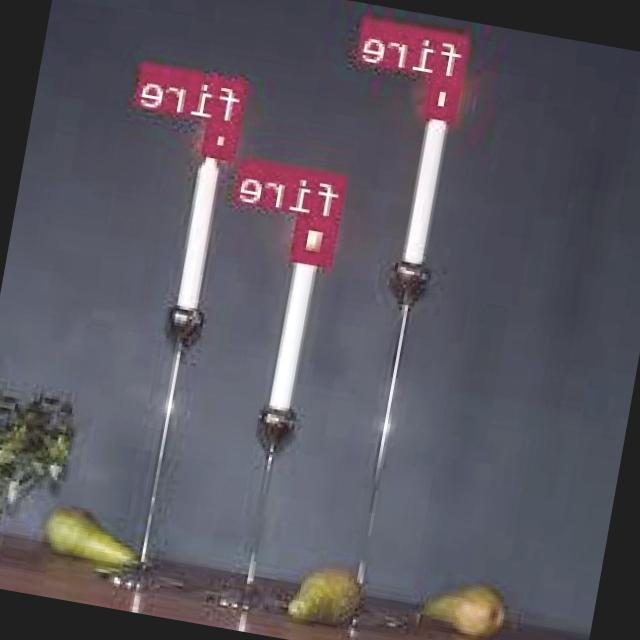fire: (292, 214, 342, 264), (425, 74, 462, 120), (204, 119, 241, 159)
